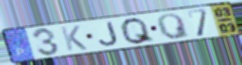3: (31, 27, 61, 57)
7: (187, 8, 210, 38)
J: (98, 20, 120, 47)
K: (59, 24, 90, 52)
Q: (119, 16, 157, 46), (156, 12, 192, 41)
